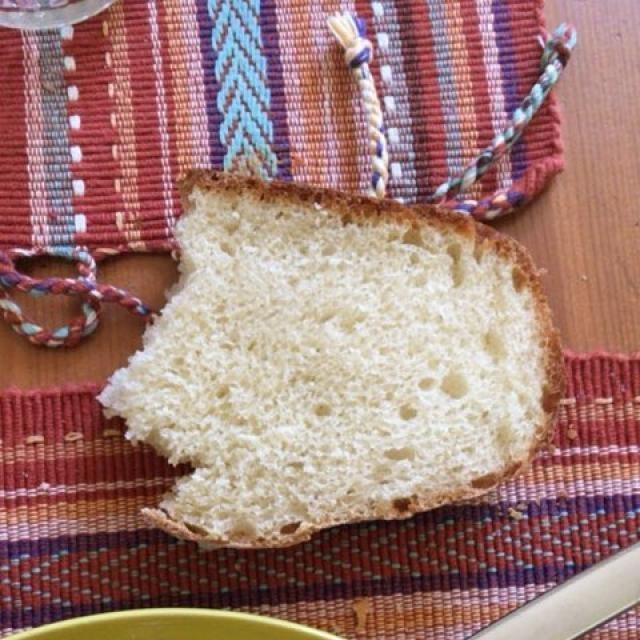bread: (110, 179, 561, 535)
